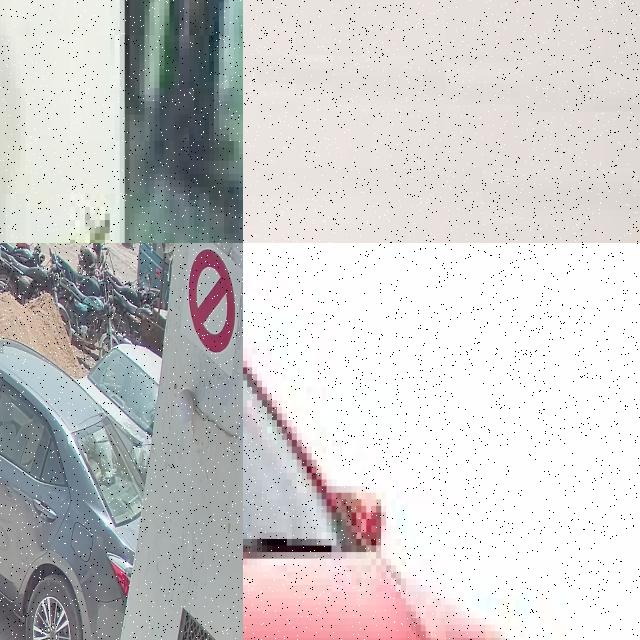bike: (59, 271, 116, 352), (0, 243, 59, 305), (54, 250, 109, 303), (112, 289, 156, 345), (0, 243, 41, 297), (106, 269, 144, 309), (77, 243, 108, 276)
car: (243, 243, 619, 640), (0, 337, 144, 640), (80, 344, 162, 461)
